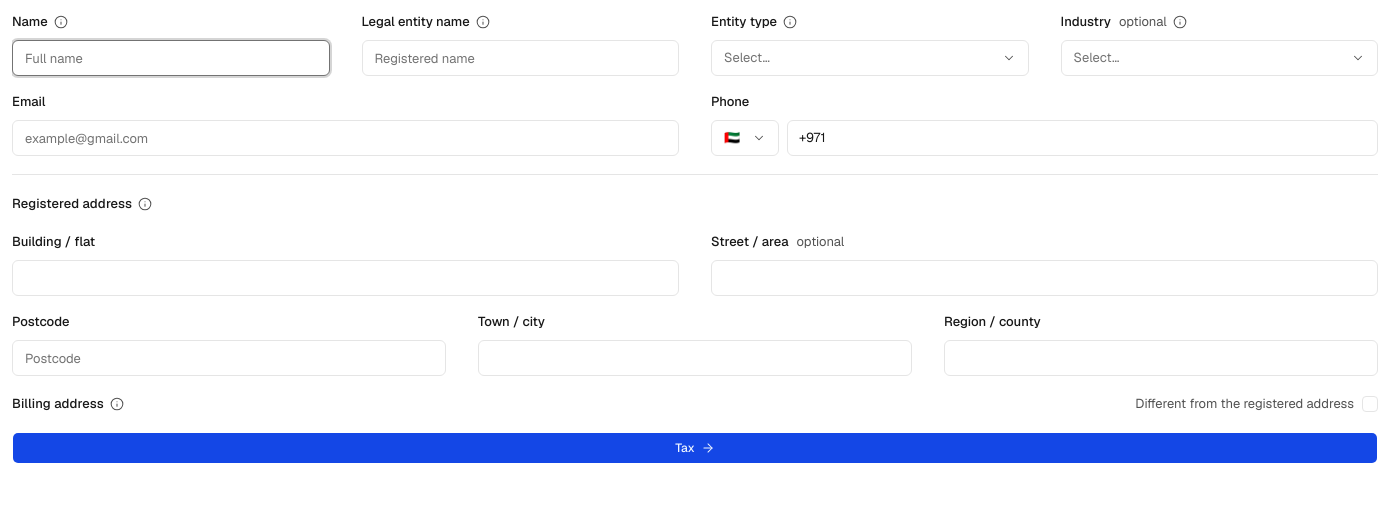
Test: IdentityStep › follows the country chosen above it while creating
Click the dropdown labelled "Entity type". click: (857, 58)
box: [712,48,1002,68]
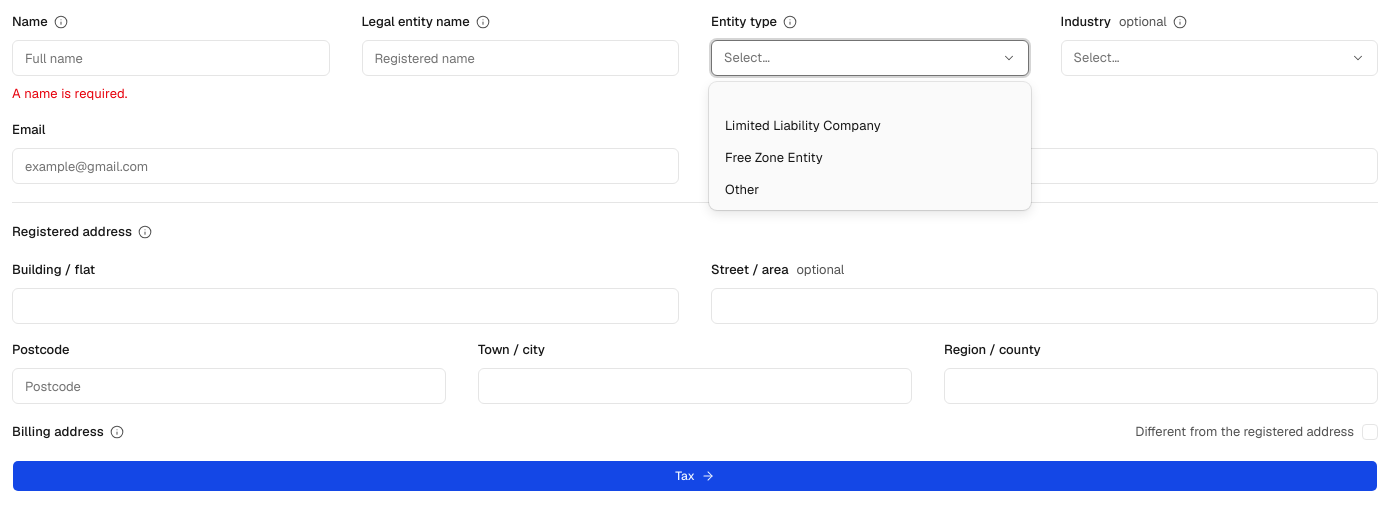
Expected: the option "Free Zone Entity" is shown, [725,149,823,166]
